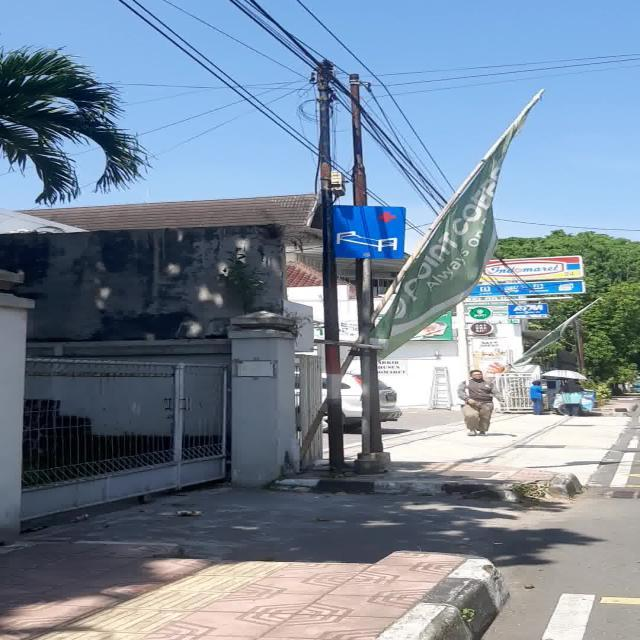Rumah Sakit: (333, 205, 405, 259)
